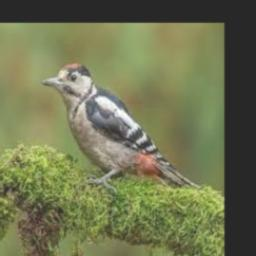Woodpecker: (42, 63, 199, 190)
